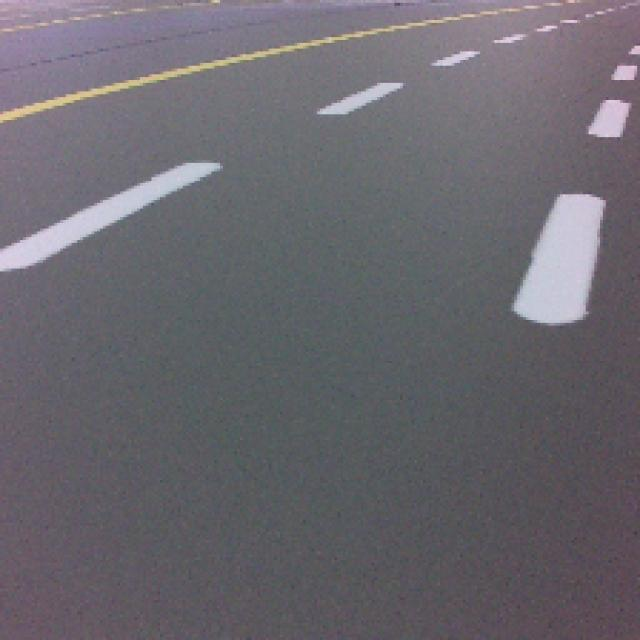Road: (0, 259, 507, 638)
